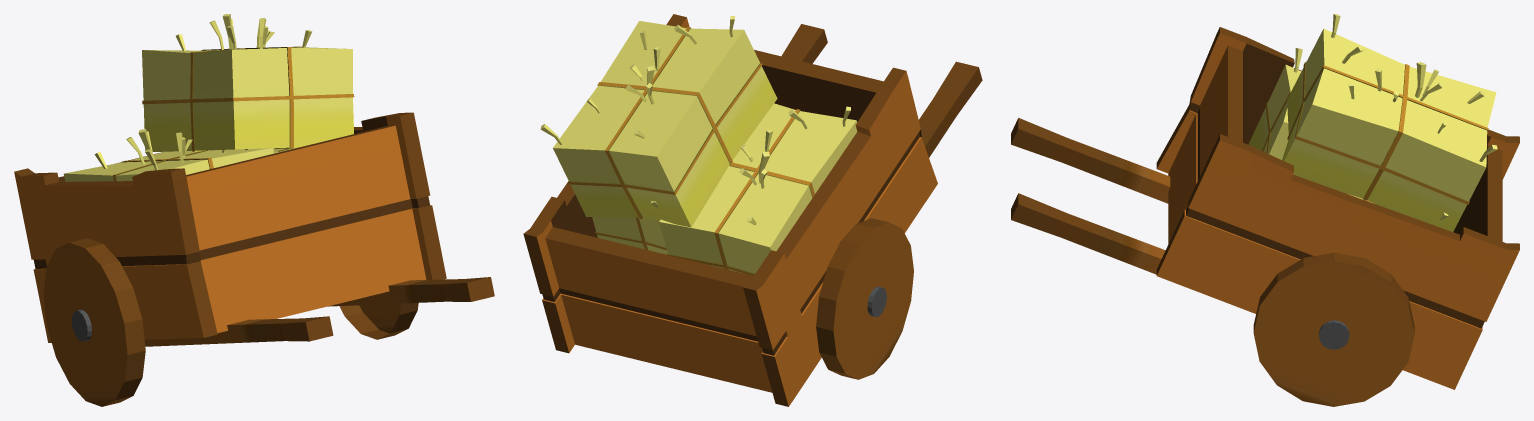
The model's file is Carroca.glb.
3 views of the same model, side by side, from view 1: azimuth 30°, elevation 25°; view 2: azimuth 150°, elevation 25°; view 3: azimuth 270°, elevation 25° (orthographic). The views are drawn at different scales.
Visible parts, largest first — view 1: Carroca; view 2: Carroca; view 3: Carroca.
Part boxes in pixels (x1,y1,x2,y2): Carroca: (14,14,494,406); Carroca: (523,14,982,406); Carroca: (1011,14,1519,406).
Size of the model in its own units: 1.96 by 2.09 by 2.98.
Materials: 1 (1 with a texture image).
